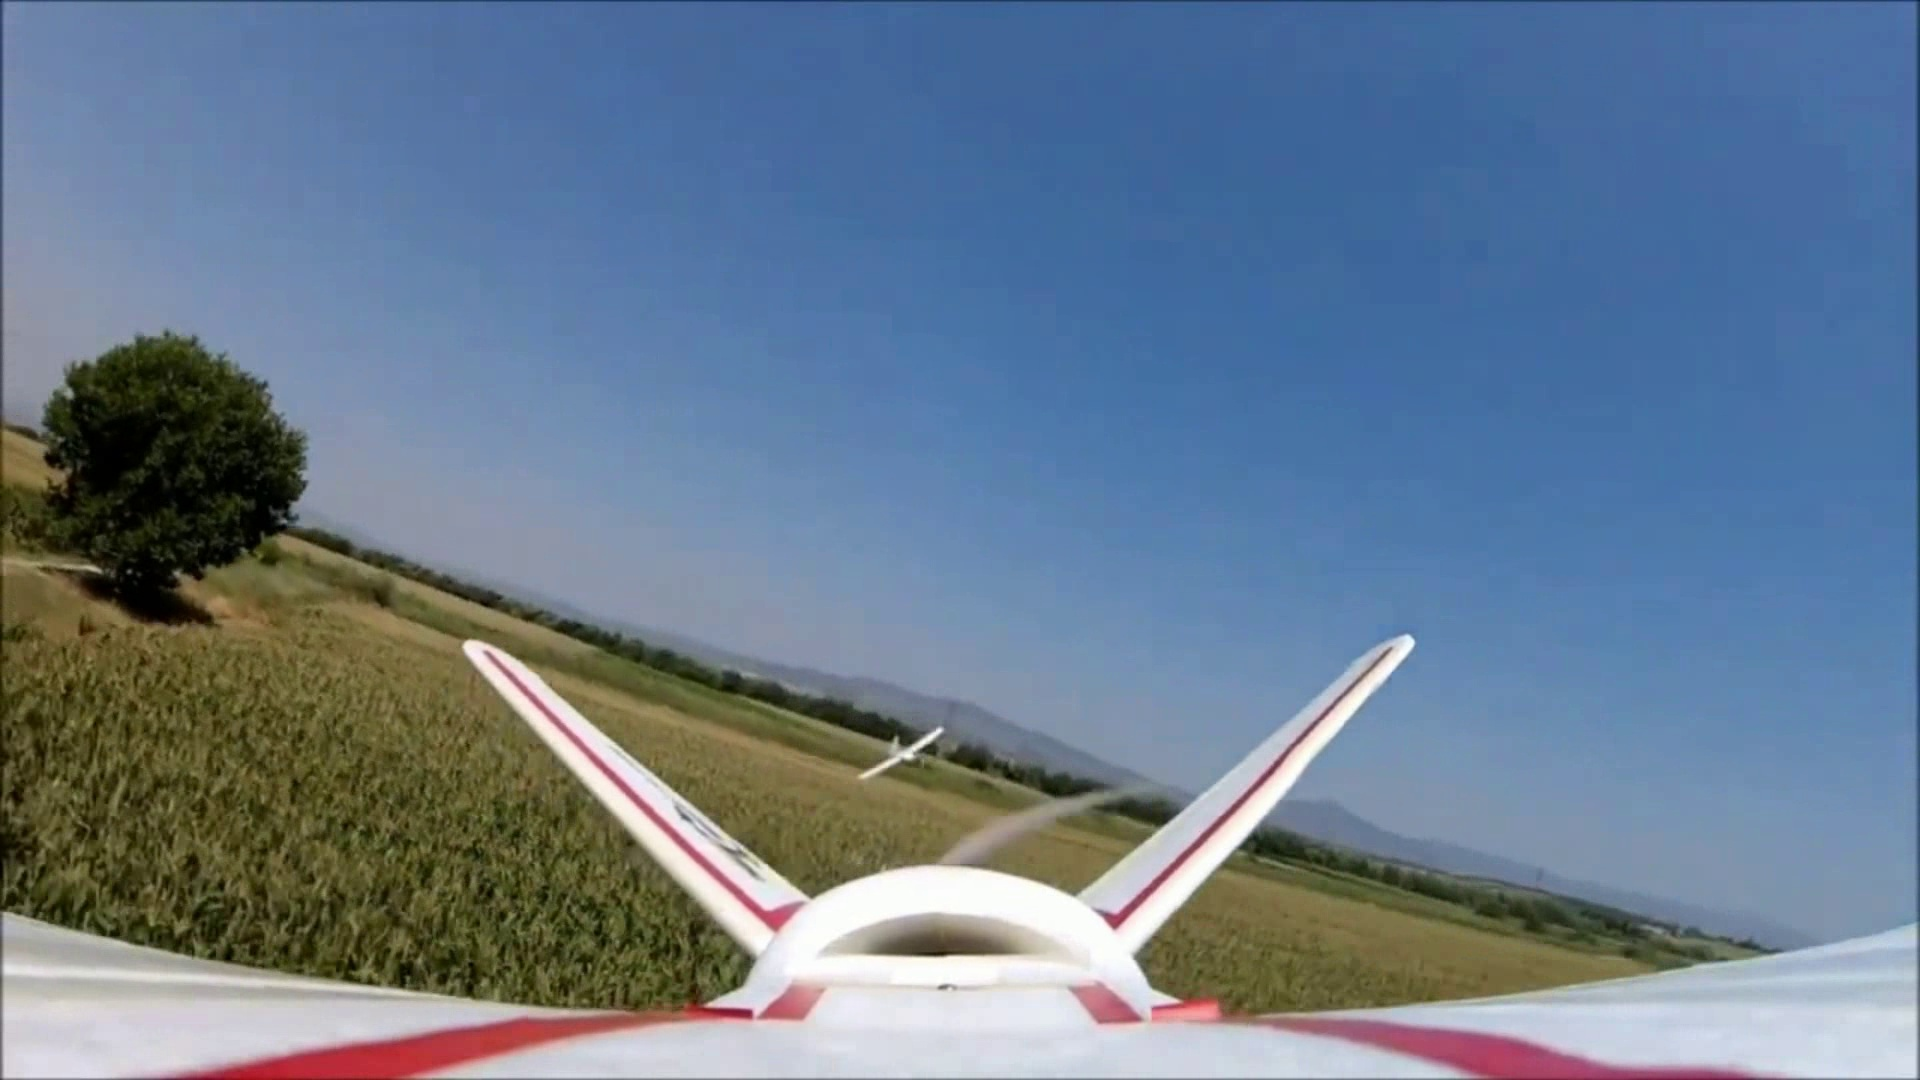airplane: (7, 625, 1863, 1058)
